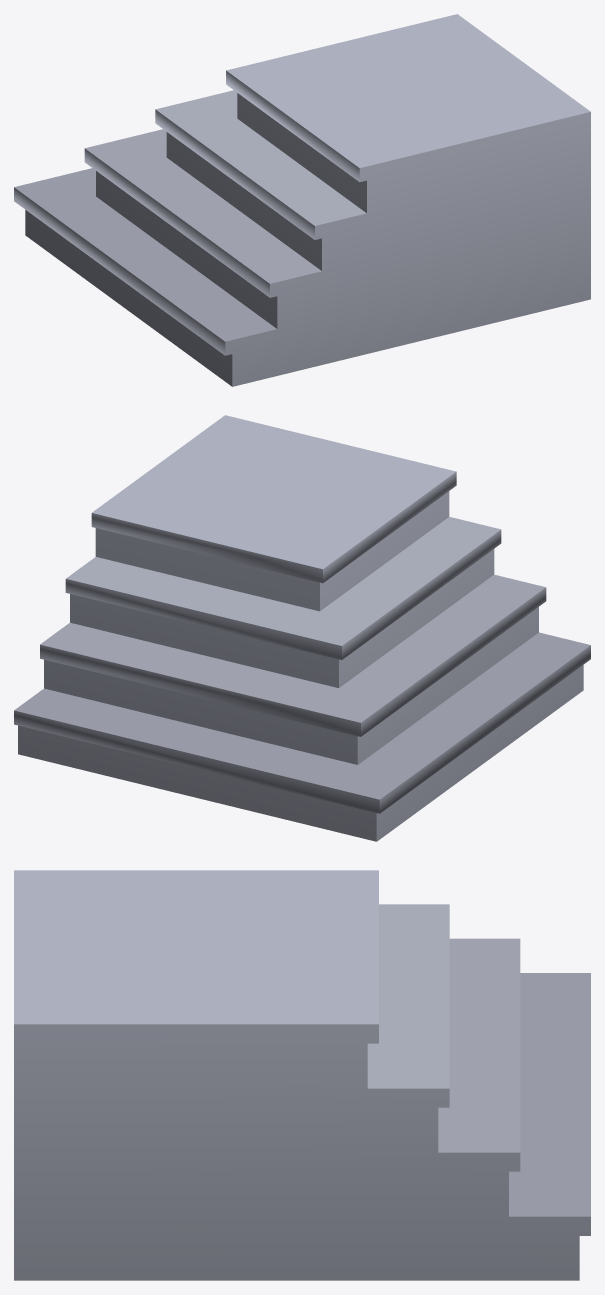
Rendered from stairs-full-corner-outer.glb.
The picture shows the model from 3 angles, top to bottom: view 1: azimuth 30°, elevation 25°; view 2: azimuth 150°, elevation 25°; view 3: azimuth 270°, elevation 25°; orthographic projection. The views are drawn at different scales.
Visible parts, largest first — view 1: stairs-full-corner-outer; view 2: stairs-full-corner-outer; view 3: stairs-full-corner-outer.
Boxes of the visible parts, x1,y1,x2,y2 form: stairs-full-corner-outer: (14, 14, 590, 386); stairs-full-corner-outer: (14, 415, 590, 841); stairs-full-corner-outer: (14, 870, 590, 1280).
Bounding box in the file's own units: 1.02 × 0.5 × 1.02.
